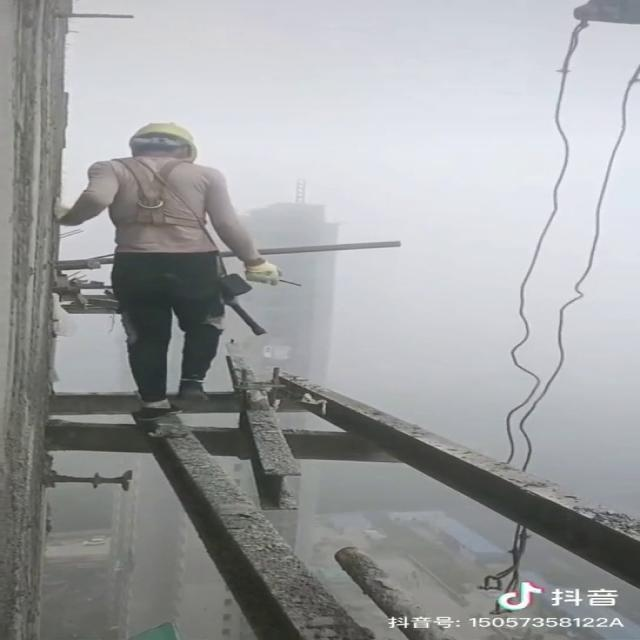Arnes_seguridad: (93, 155, 231, 245)
